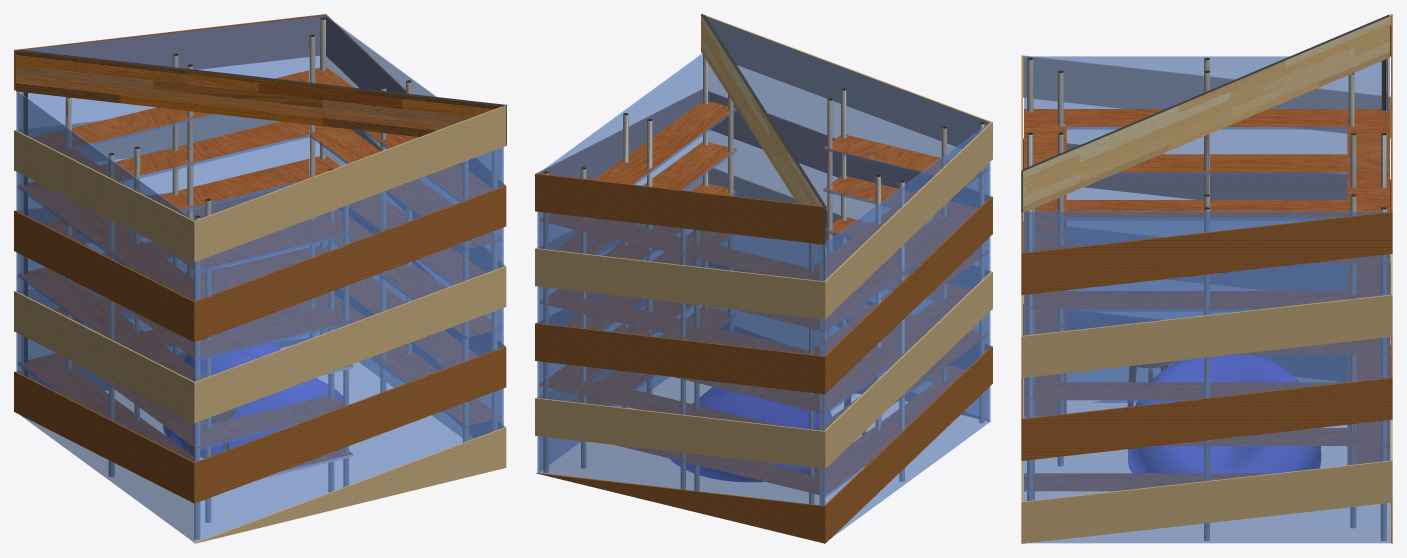
3 views of the same model, side by side, from view 1: azimuth 30°, elevation 25°; view 2: azimuth 150°, elevation 25°; view 3: azimuth 270°, elevation 25° (orthographic). The views are drawn at different scales.
Visible parts, largest first — view 1: Mesh_0; view 2: Mesh_0; view 3: Mesh_0.
Boxes of the visible parts, <box> form: Mesh_0: <box>14,14,506,543</box>; Mesh_0: <box>535,14,992,543</box>; Mesh_0: <box>1021,14,1392,543</box>.
Size of the model in its own units: 2.45 by 2.7 by 2.44.
11 materials, 8 textured.
